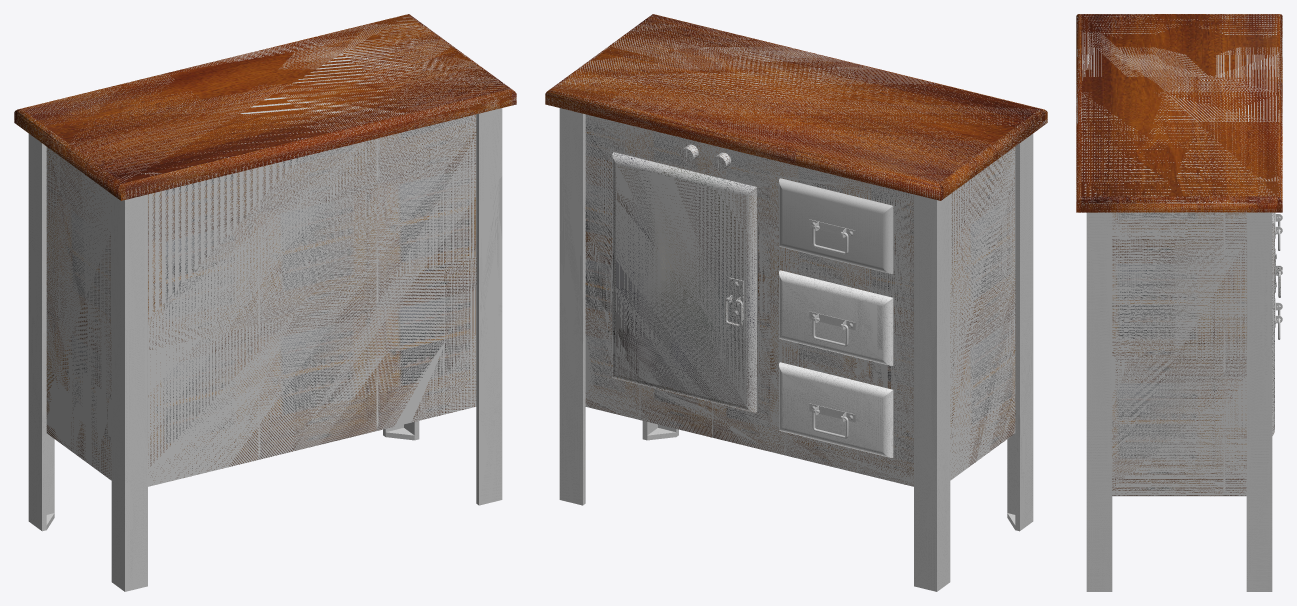
3 views of the same model, side by side, from view 1: azimuth 30°, elevation 25°; view 2: azimuth 150°, elevation 25°; view 3: azimuth 270°, elevation 25° (orthographic). The views are drawn at different scales.
Parts seen in each view (by area): view 1: mesh2_mesh2-geometry, mesh1_mesh1-geometry, mesh9_mesh9-geometry, mesh8_mesh8-geometry; view 2: mesh2_mesh2-geometry, mesh1_mesh1-geometry, mesh4_mesh4-geometry, mesh8_mesh8-geometry, mesh9_mesh9-geometry, mesh16_mesh16-geometry, mesh13_mesh13-geometry, mesh10_mesh10-geometry; view 3: mesh1_mesh1-geometry, mesh2_mesh2-geometry, mesh8_mesh8-geometry, mesh9_mesh9-geometry, mesh4_mesh4-geometry.
Part boxes in pixels (left/top/right/bottom): mesh2_mesh2-geometry: left=46, top=114, right=476, bottom=486; mesh1_mesh1-geometry: left=14, top=14, right=516, bottom=200; mesh9_mesh9-geometry: left=28, top=108, right=502, bottom=531; mesh8_mesh8-geometry: left=111, top=194, right=419, bottom=591; mesh2_mesh2-geometry: left=585, top=114, right=1015, bottom=486; mesh1_mesh1-geometry: left=545, top=14, right=1047, bottom=200; mesh4_mesh4-geometry: left=612, top=152, right=756, bottom=412; mesh8_mesh8-geometry: left=559, top=108, right=1033, bottom=531; mesh9_mesh9-geometry: left=642, top=194, right=950, bottom=591; mesh16_mesh16-geometry: left=779, top=362, right=893, bottom=457; mesh13_mesh13-geometry: left=779, top=270, right=893, bottom=365; mesh10_mesh10-geometry: left=779, top=178, right=893, bottom=273; mesh1_mesh1-geometry: left=1076, top=14, right=1282, bottom=212; mesh2_mesh2-geometry: left=1112, top=212, right=1246, bottom=496; mesh8_mesh8-geometry: left=1246, top=212, right=1272, bottom=591; mesh9_mesh9-geometry: left=1086, top=212, right=1112, bottom=591; mesh4_mesh4-geometry: left=1272, top=212, right=1274, bottom=435.
Size of the model in its own units: 0.6731 by 0.6692 by 0.3149.
